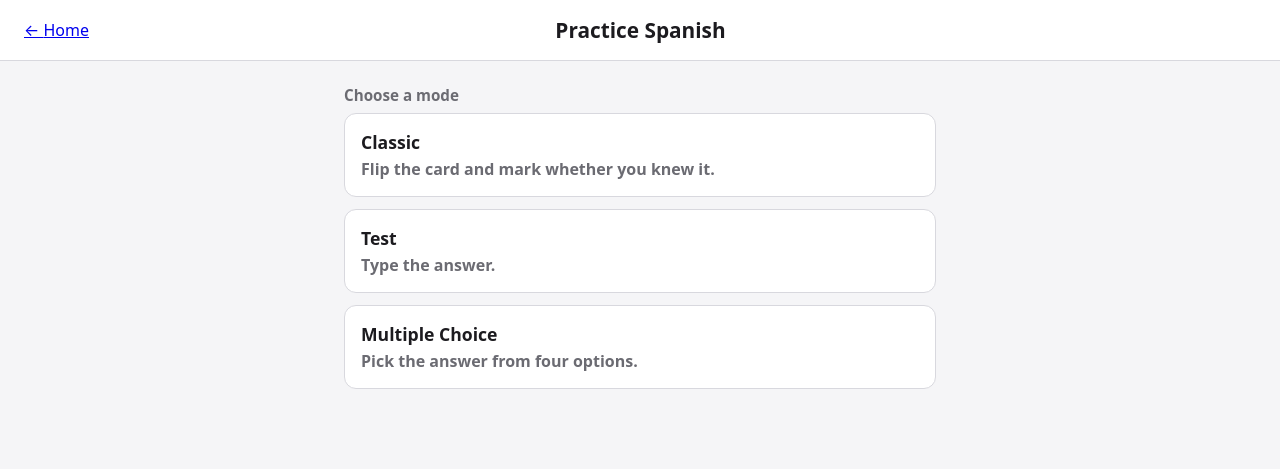
it: ModeChooser › goes back to the mode list without starting, so a wrong pick is recoverable
Expected: the heading "Practice Spanish" is shown, 555,16 -> 726,44
Click the button "Classic Flip the card and mark whether you knew it.": (640, 155) 344,113 -> 936,197
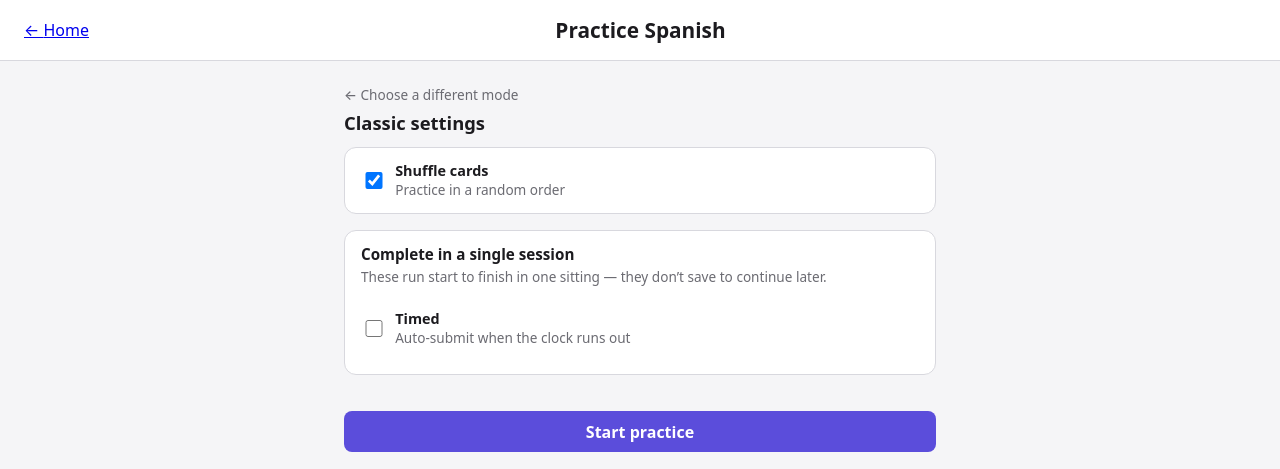
Click the button "← Choose a different mode": (431, 94) 344,85 -> 518,104
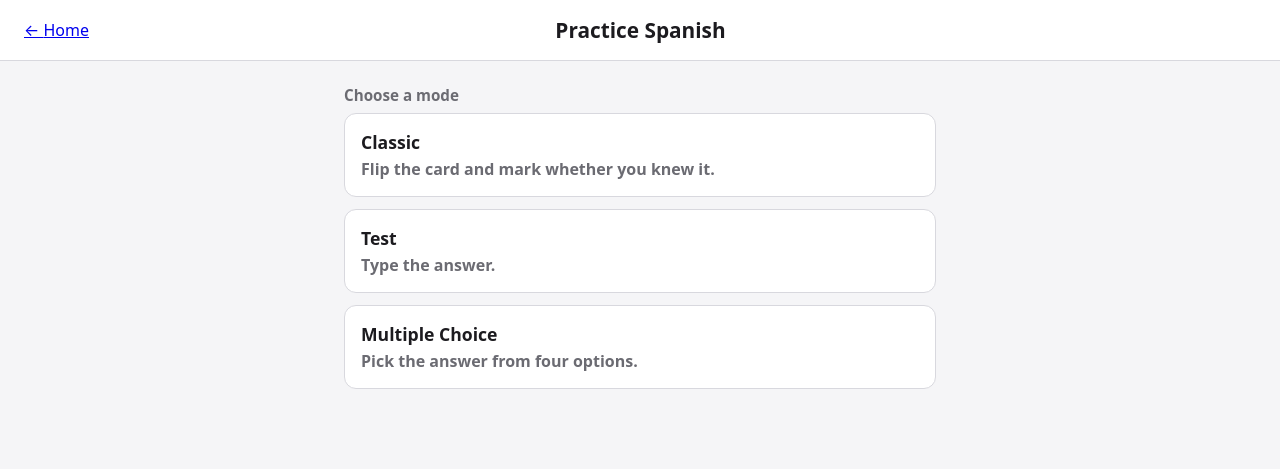
Expected: the button "Test Type the answer." is shown, 344,209 -> 936,293
Expected: the button "Start practice" is gone
